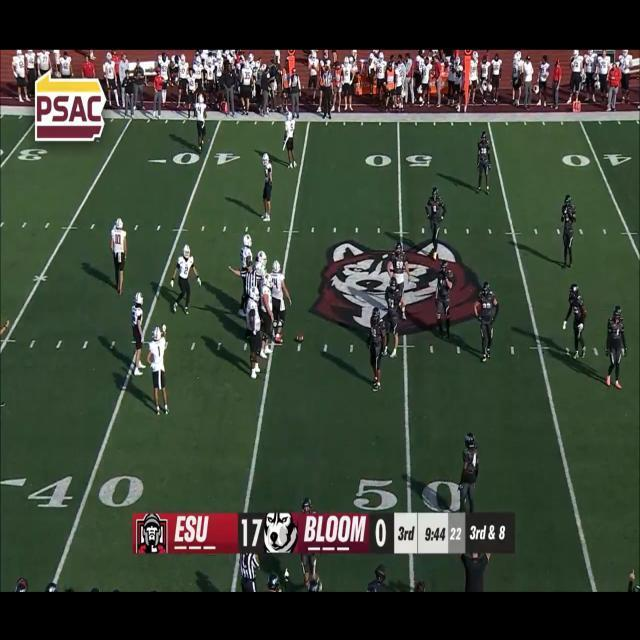football: (295, 334, 305, 344)
